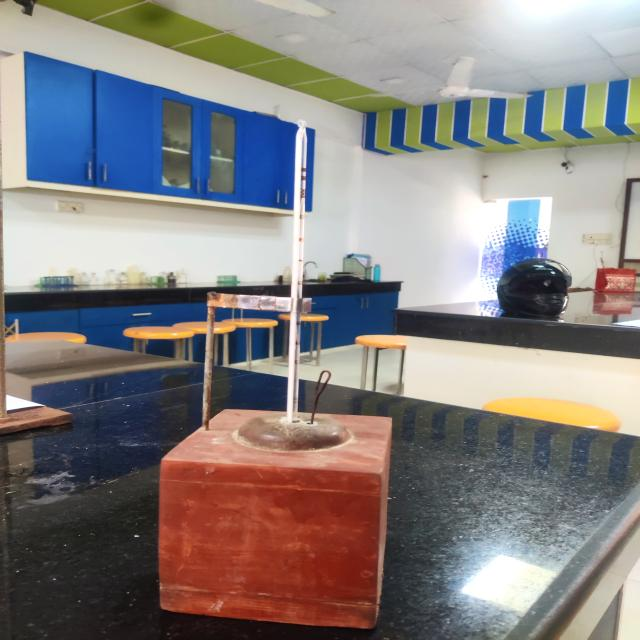Calorimeter: (136, 106, 415, 637)
